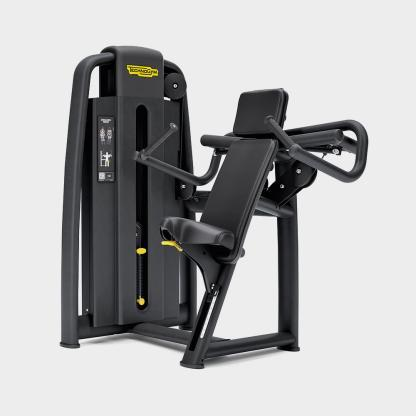shoulder press machine: (54, 38, 369, 379)
